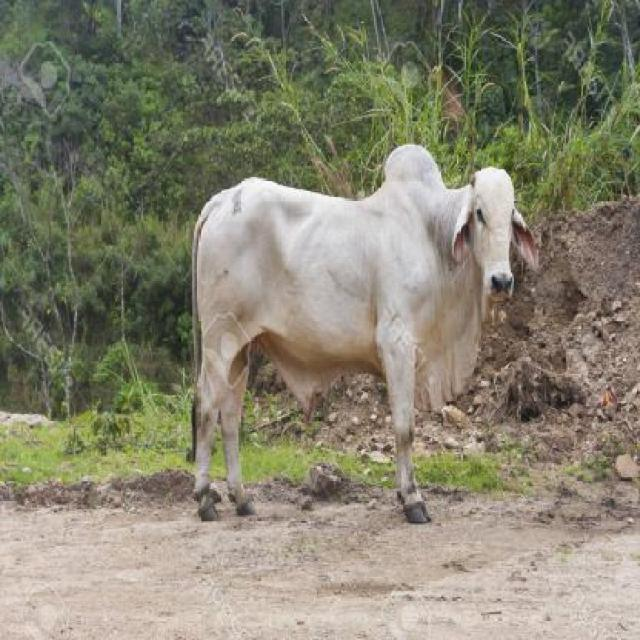Cow: (178, 140, 524, 529)
